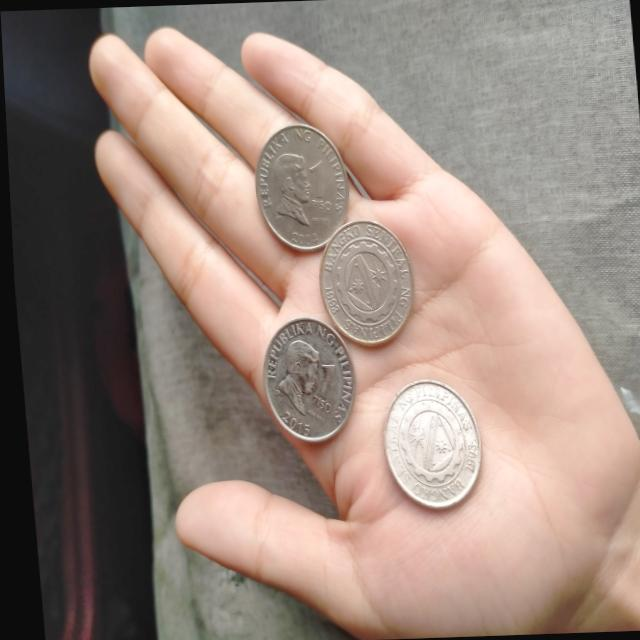1_Old_Back: (385, 394, 465, 496), (325, 232, 404, 334)
